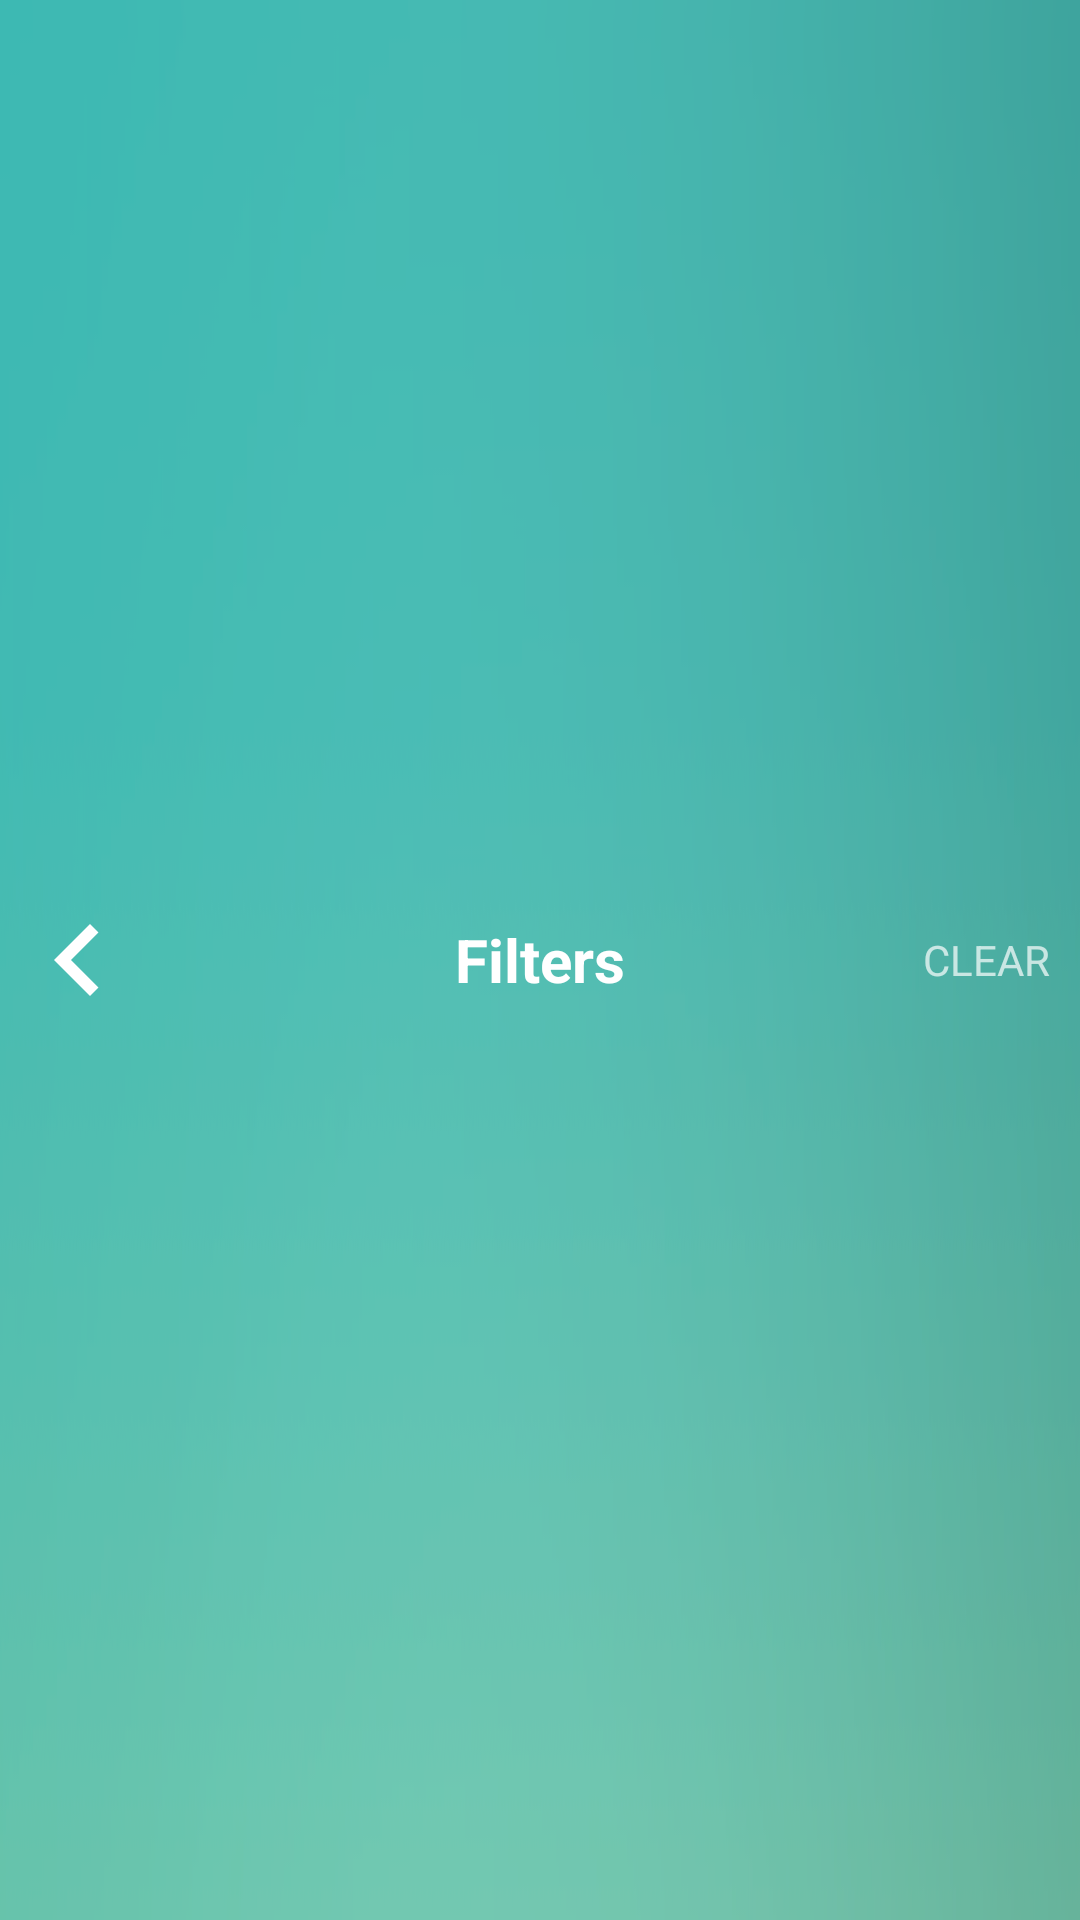

Icons on this 1080w x 1920h Android screen, each with its box as rect(x1, y1, x2, y2):
back: rect(54, 924, 99, 996)
